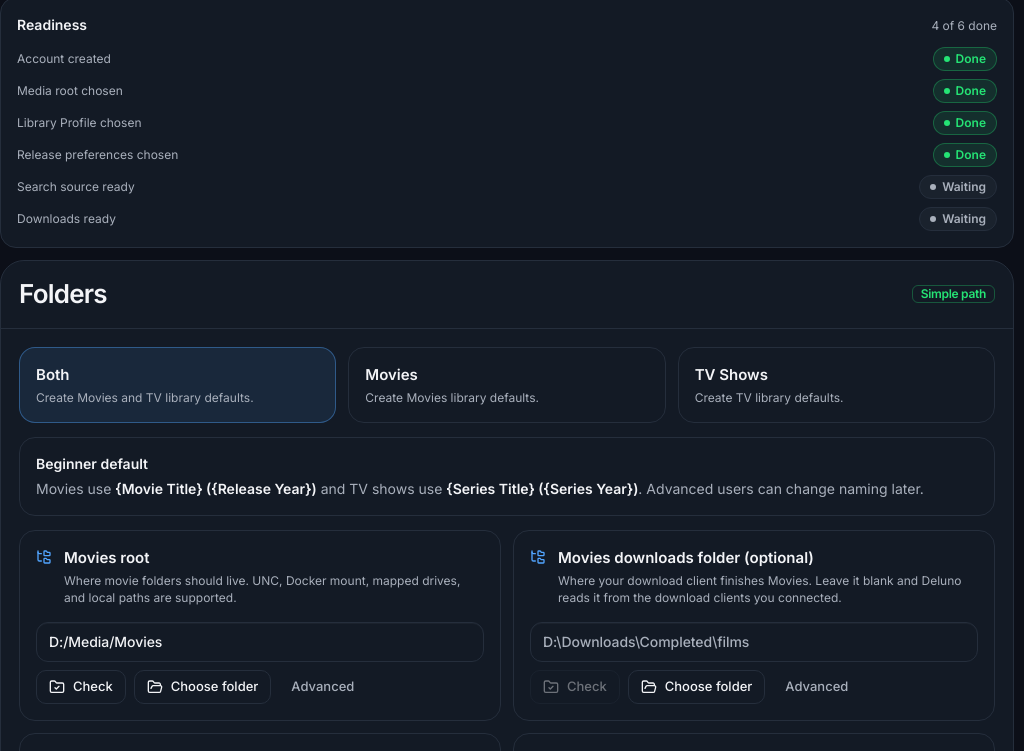
Folders and Library Profiles › the TV Shows card shows the matching root inputs
(page scrolled)
Click the button "TV Shows Create TV library defaults." at {"x": 731, "y": 374}, box [678,347,995,423]
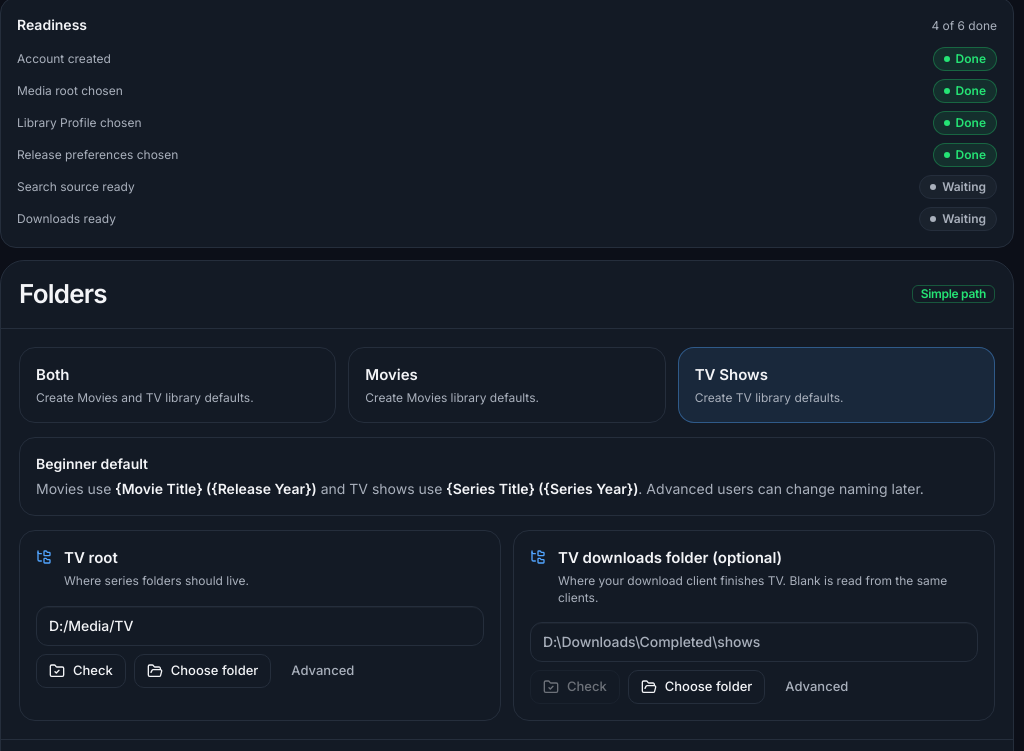
Expected: the text "TV root" is shown, [64,548,118,567]
Expected: the text "Movies root" is gone
Expected: the text "Movies downloads folder (optional)" is gone
